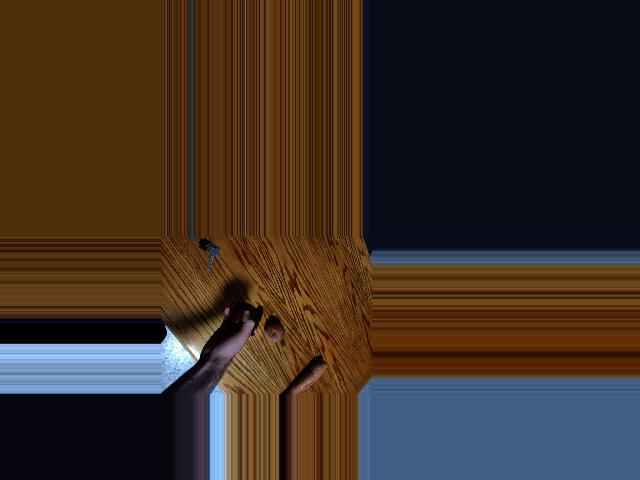onion: (257, 322, 283, 348)
